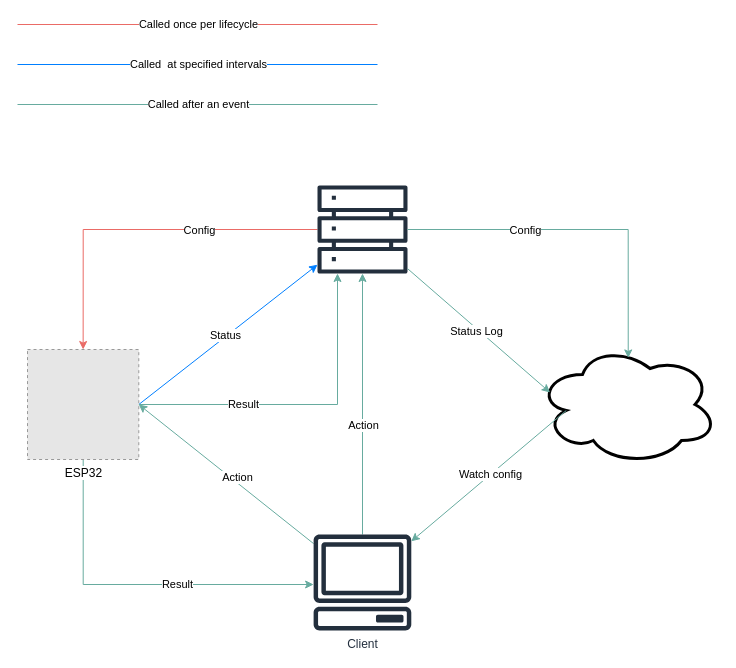
This 736x668 diagram has some shape labels left out. Grey dashed boxes stand in for pictures. The shapes that lost their labels are listed below. From the top down, each one's centre as x and y in pixels, then its label:
At pixel 362 229: "Server".
At pixel 627 404: "Cloud Service (Firebase)".
